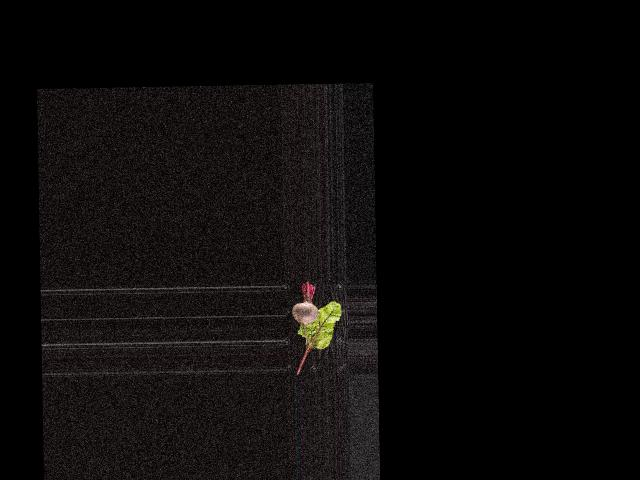beet: (291, 281, 319, 348)
